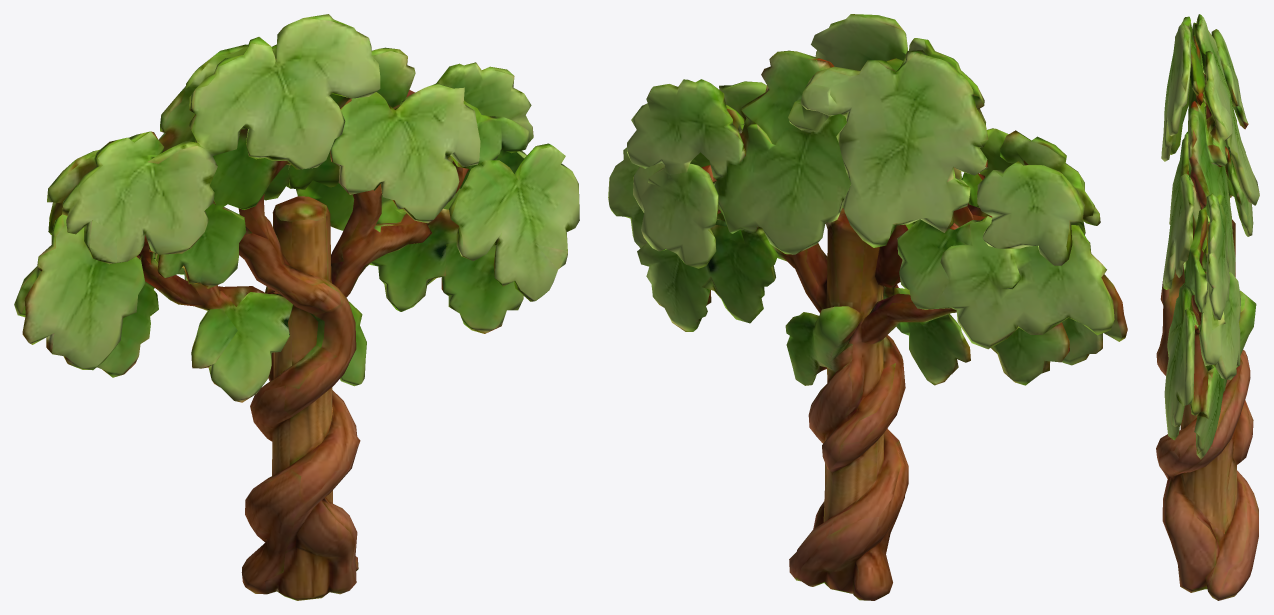
Rendered from grape.glb.
The picture shows the model from 3 angles, left to right: view 1: azimuth 30°, elevation 25°; view 2: azimuth 150°, elevation 25°; view 3: azimuth 270°, elevation 25°; orthographic projection. The views are drawn at different scales.
Visible parts, largest first — view 1: textured_mesh.obj; view 2: textured_mesh.obj; view 3: textured_mesh.obj.
Part boxes in pixels (bbox=[...]): textured_mesh.obj: bbox=[14, 14, 579, 600]; textured_mesh.obj: bbox=[608, 14, 1127, 600]; textured_mesh.obj: bbox=[1156, 14, 1259, 600].
Size of what is drawn, in the model's own units: 2.85 by 2.9 by 0.5038.
1 material, 1 textured.
